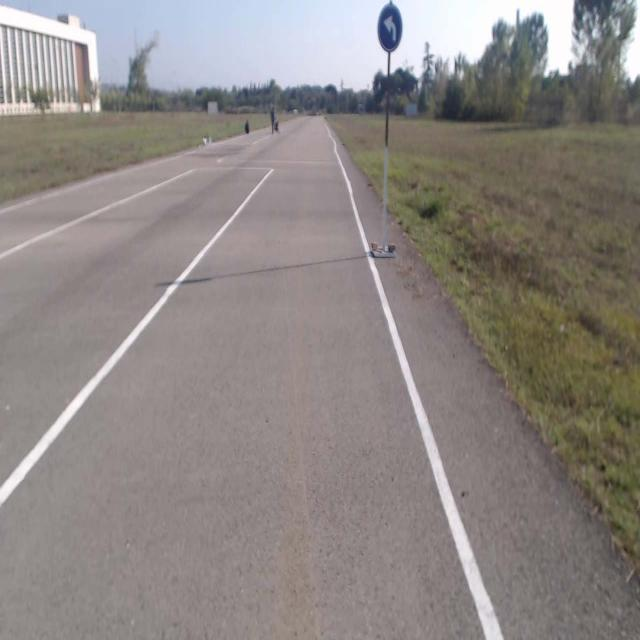sol: (378, 4, 403, 52)
